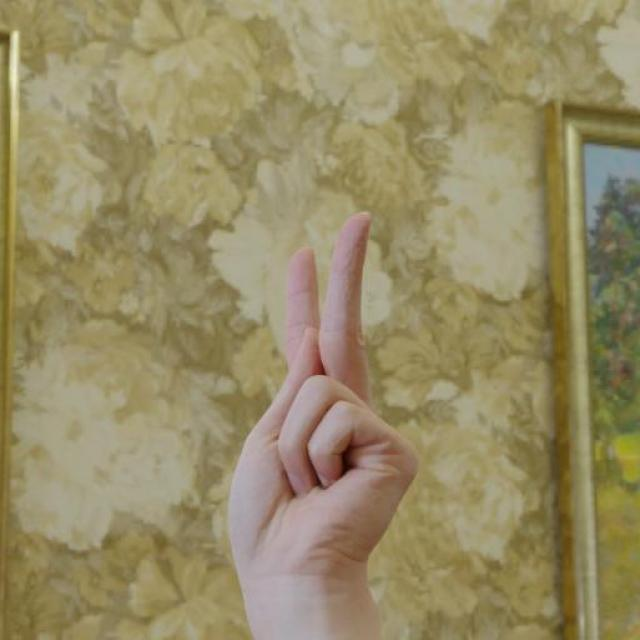K: (212, 207, 419, 640)
